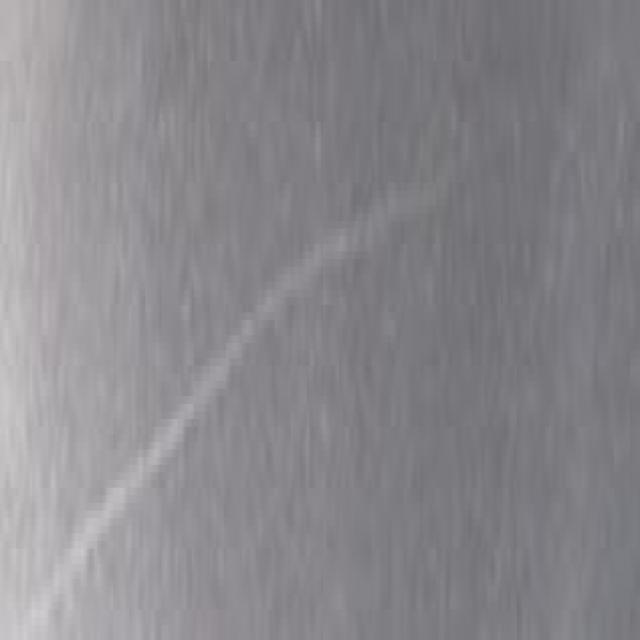scratch: (0, 141, 432, 636)
